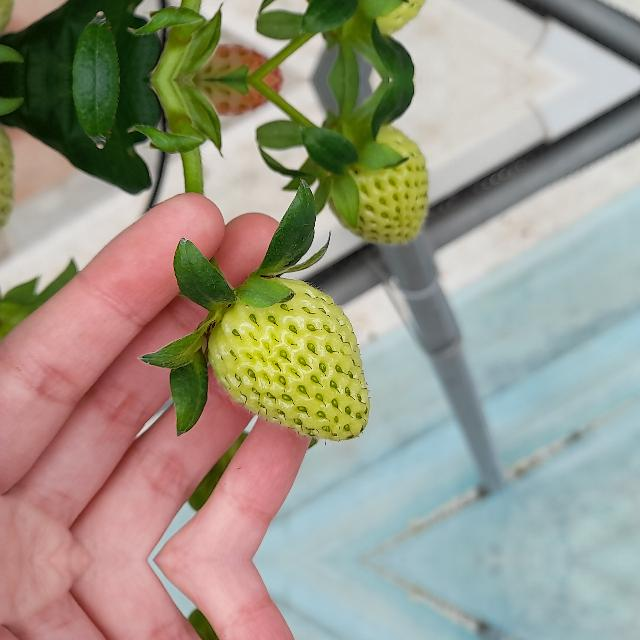Health_25: (208, 270, 370, 440), (324, 118, 438, 250), (324, 0, 437, 42)
